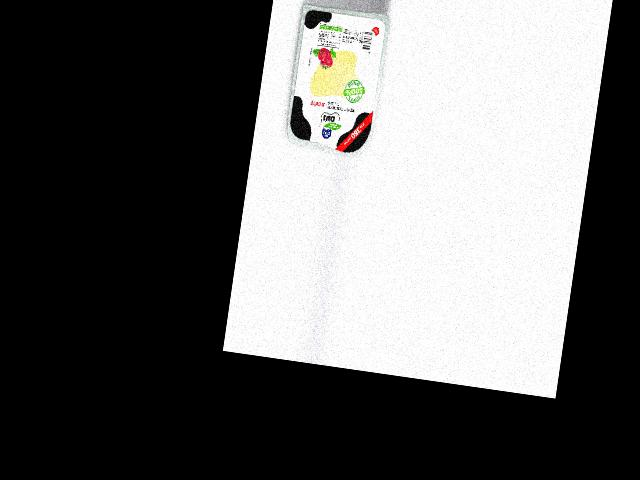cheese: (282, 3, 390, 160)
